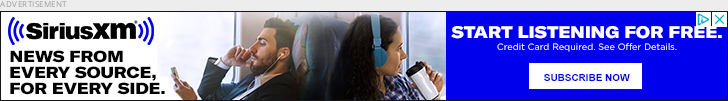fake_button: (520, 59, 653, 100), (684, 12, 727, 31)
